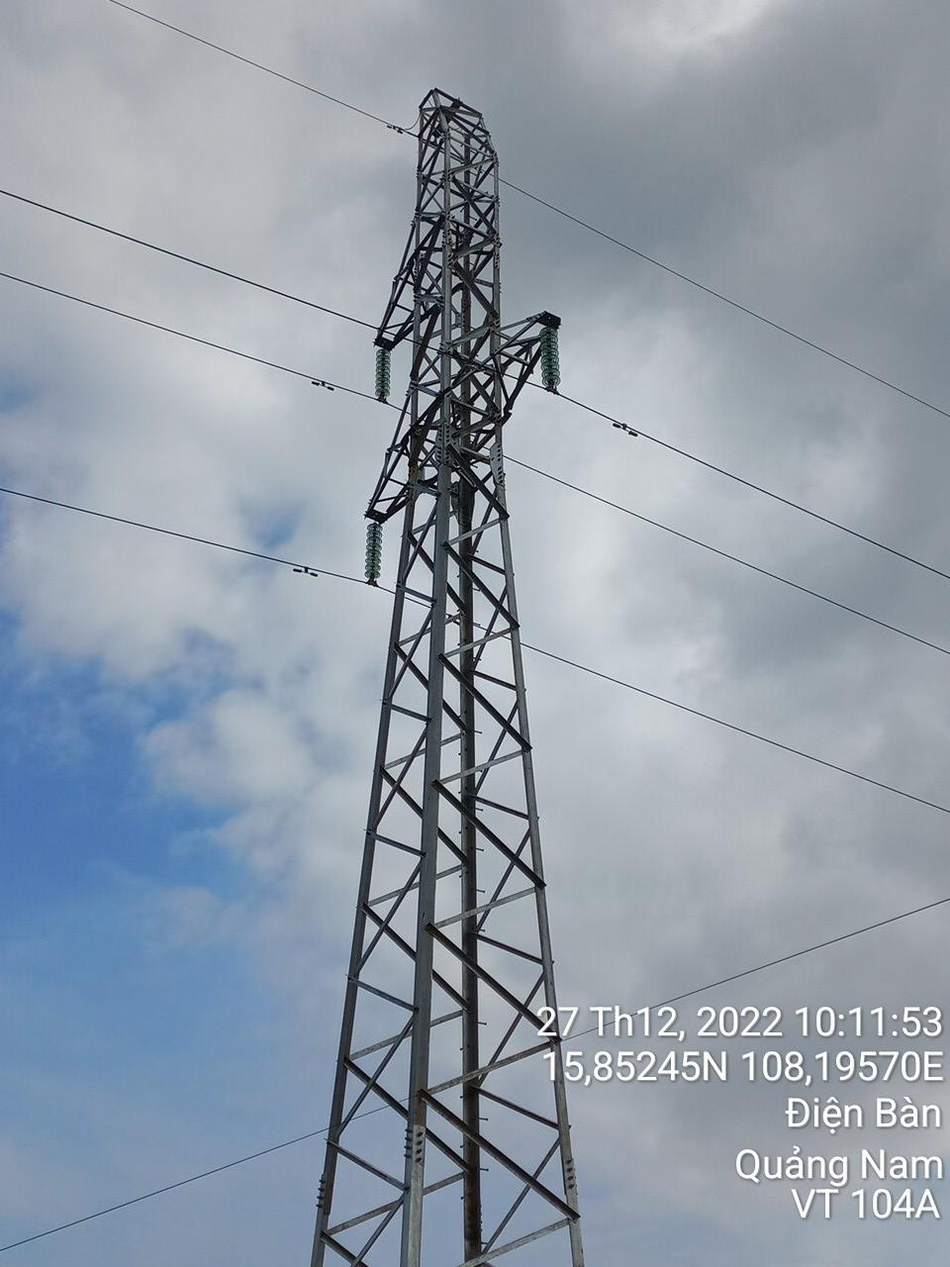power_tower: (331, 71, 582, 1267)
